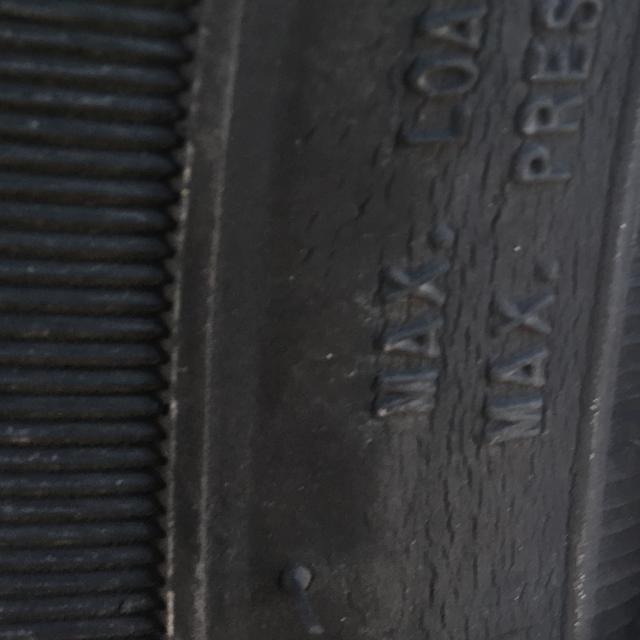Cracks: (286, 0, 640, 640)
Non-defective: (0, 0, 241, 640)
